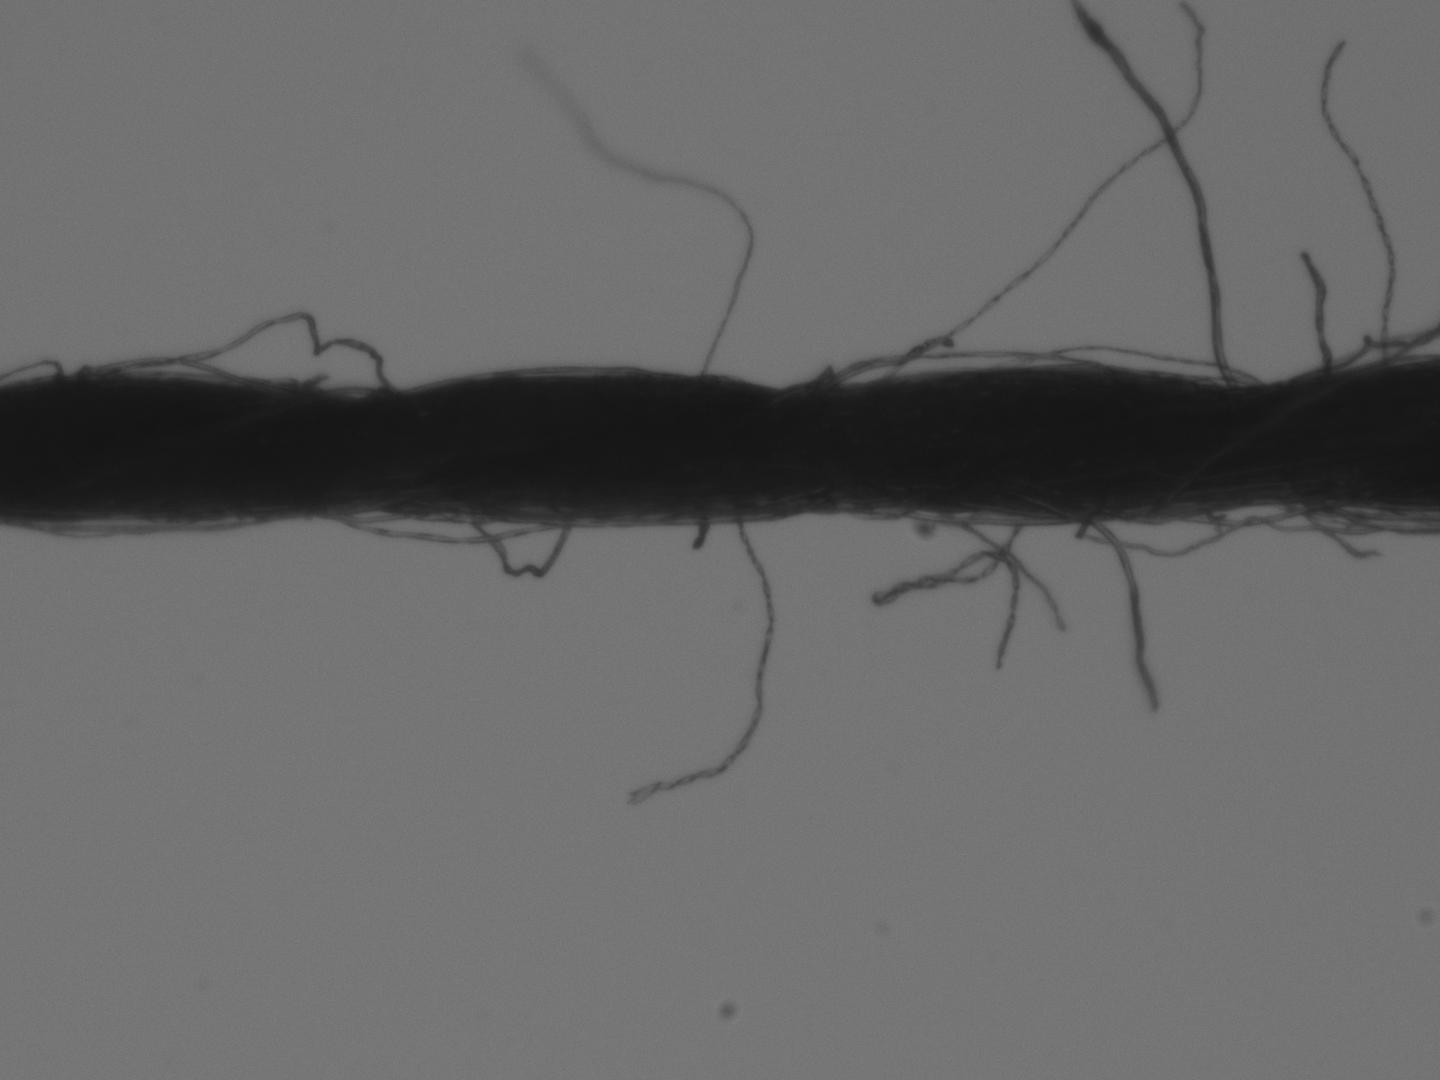loop_fiber: (83, 317, 391, 391), (327, 509, 568, 550), (63, 356, 252, 393), (465, 515, 568, 581)
protruding_fiber: (526, 51, 752, 372), (1070, 0, 1228, 388), (629, 507, 780, 805), (1068, 517, 1162, 714), (1297, 253, 1331, 371), (685, 516, 708, 559)
